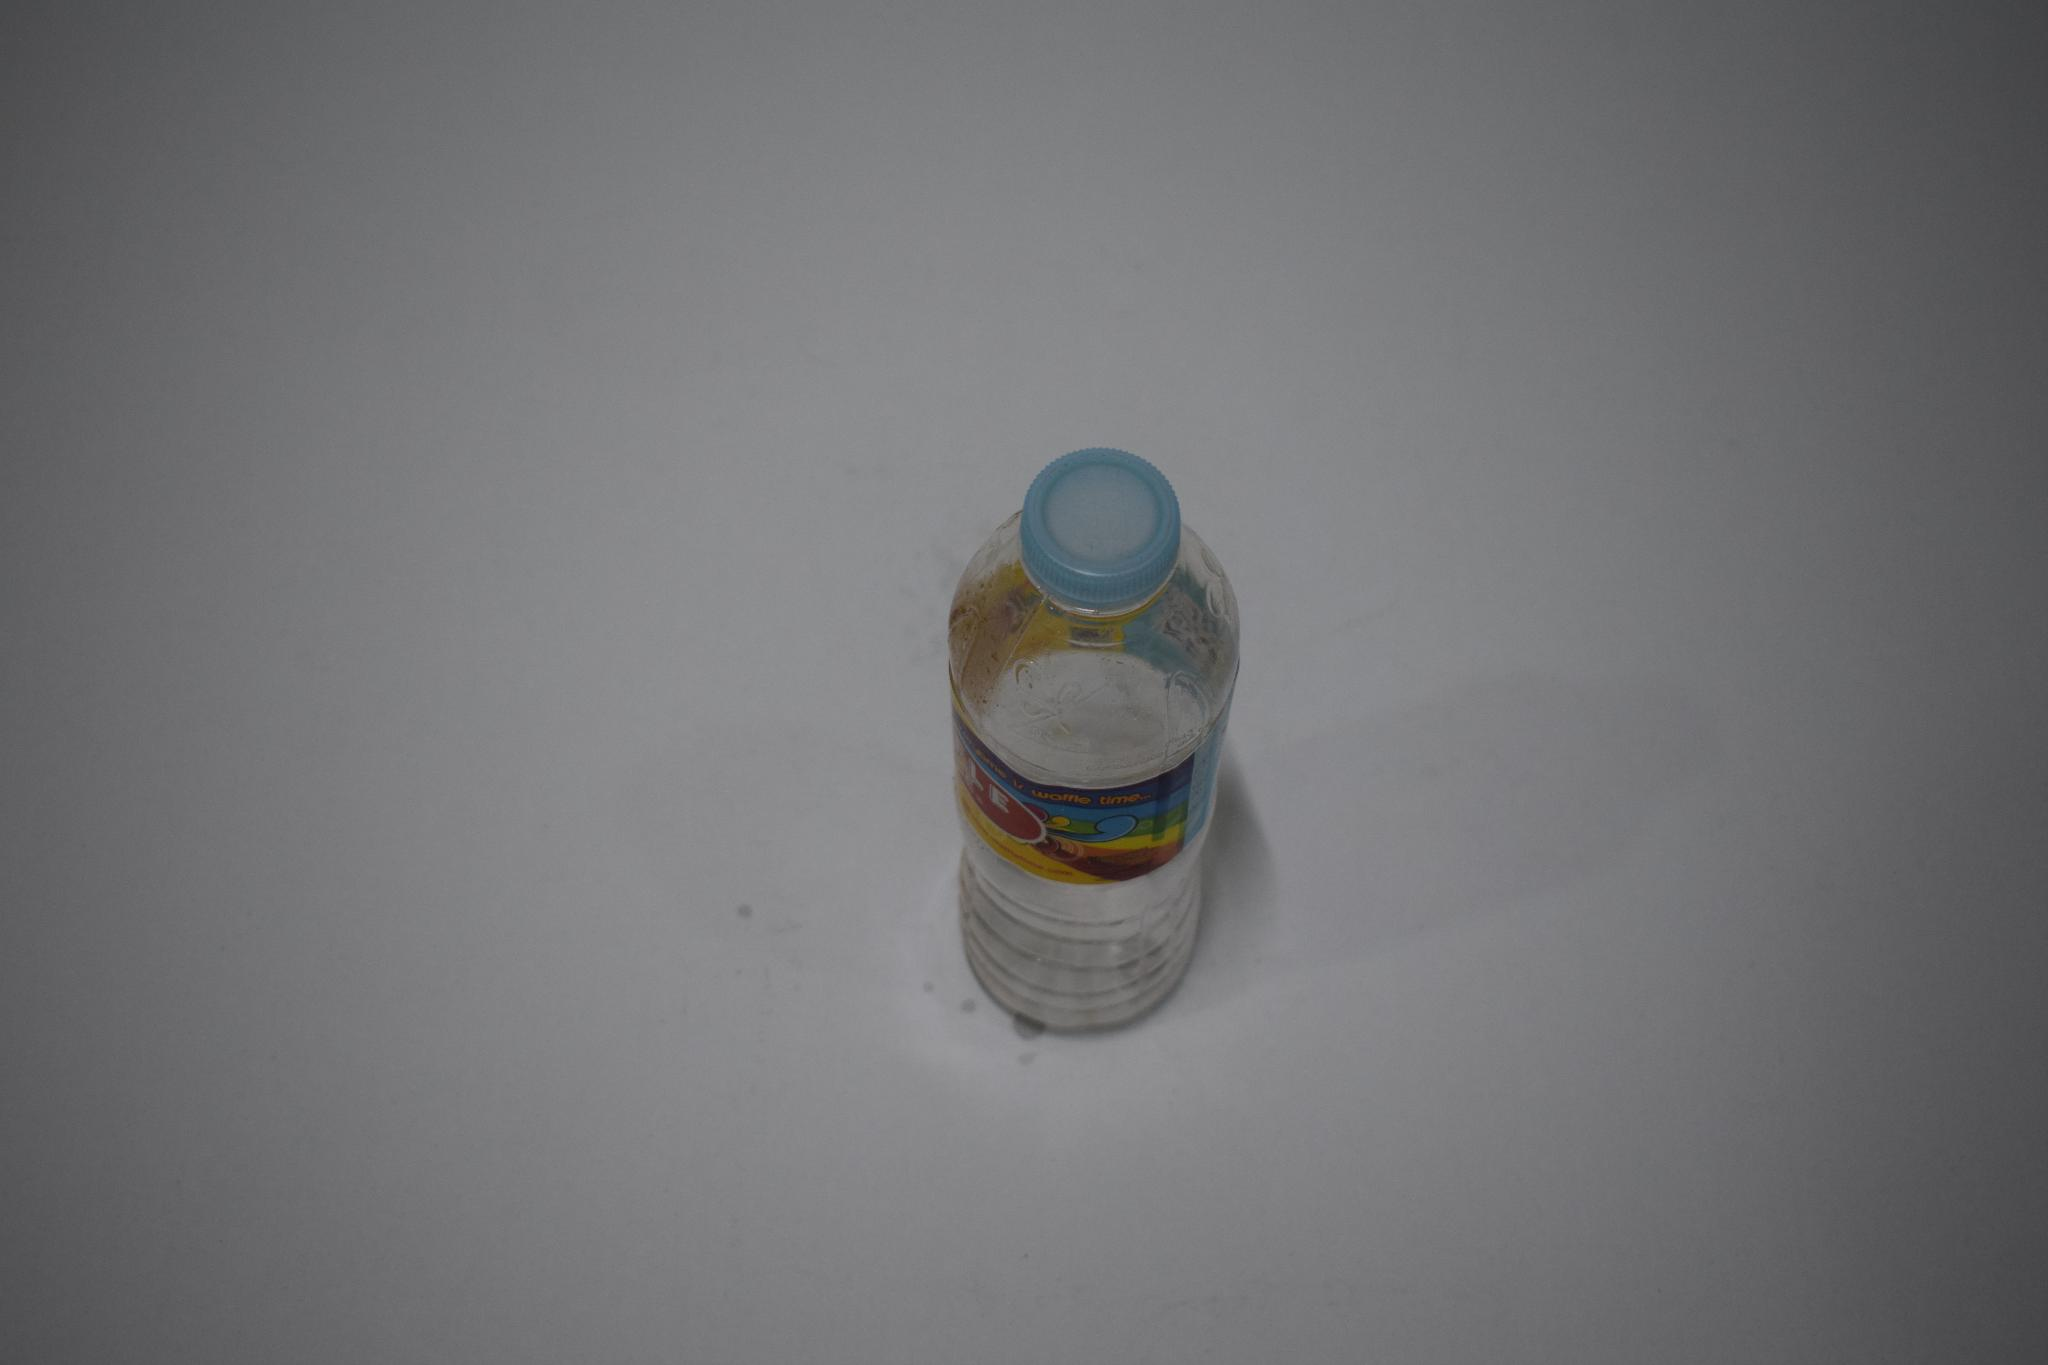bottle: (947, 424, 1253, 1071)
